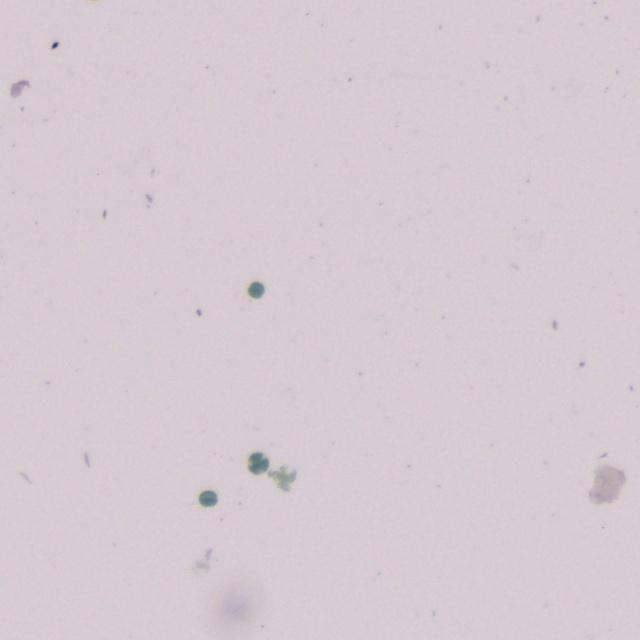non_viable: (248, 452, 268, 474), (247, 281, 264, 298), (199, 490, 217, 506)
